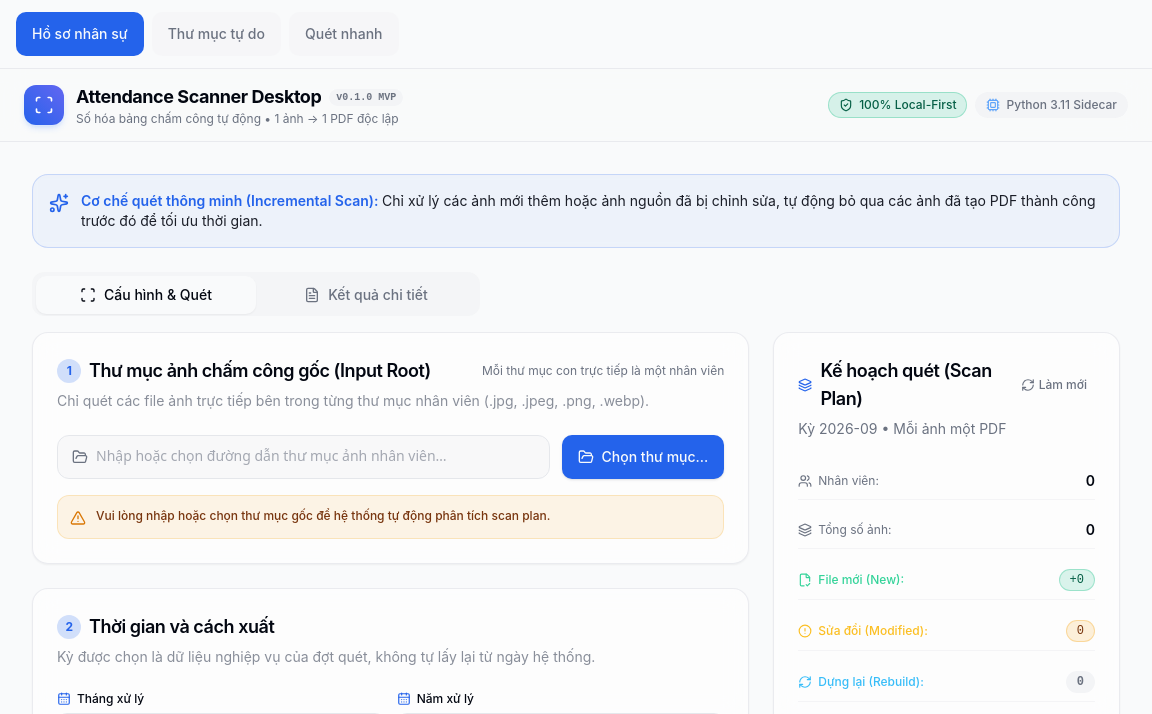
AppShell execution coordinator › persists workflow selection and routes navigation through the shell
Click the tab "Thư mục tự do".
click(216, 34)  # box [152,12,281,56]
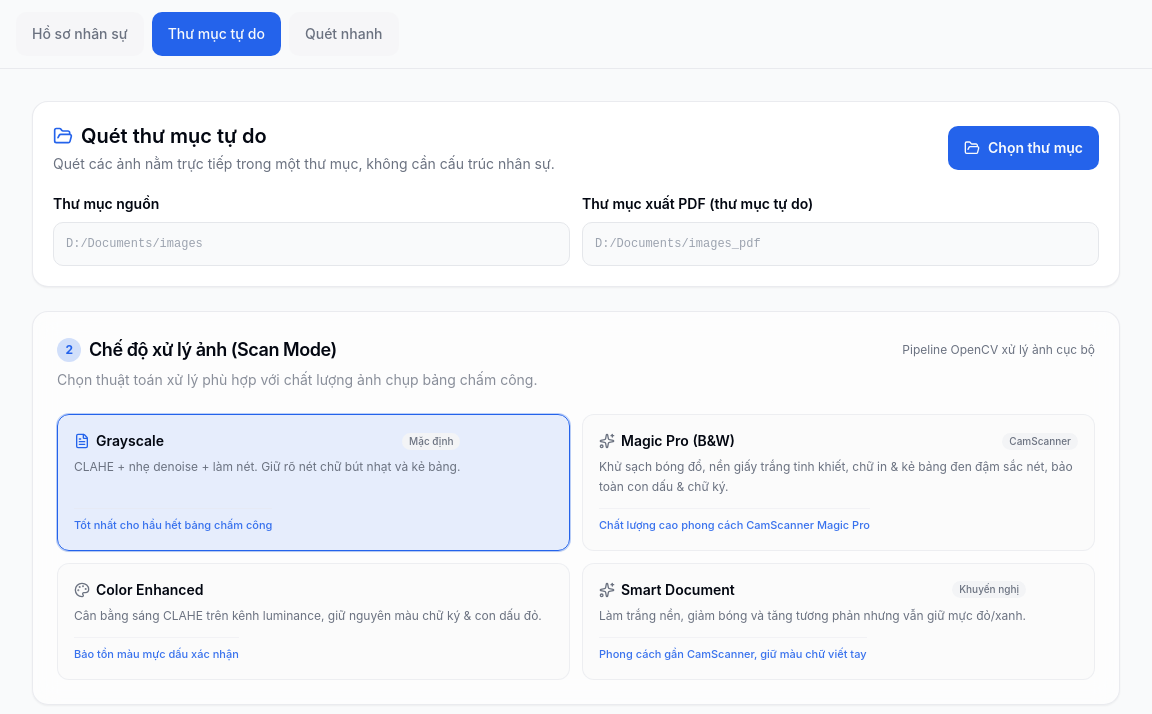
Expected: the heading "Quét thư mục tự do" is shown, [53,124,267,148]
